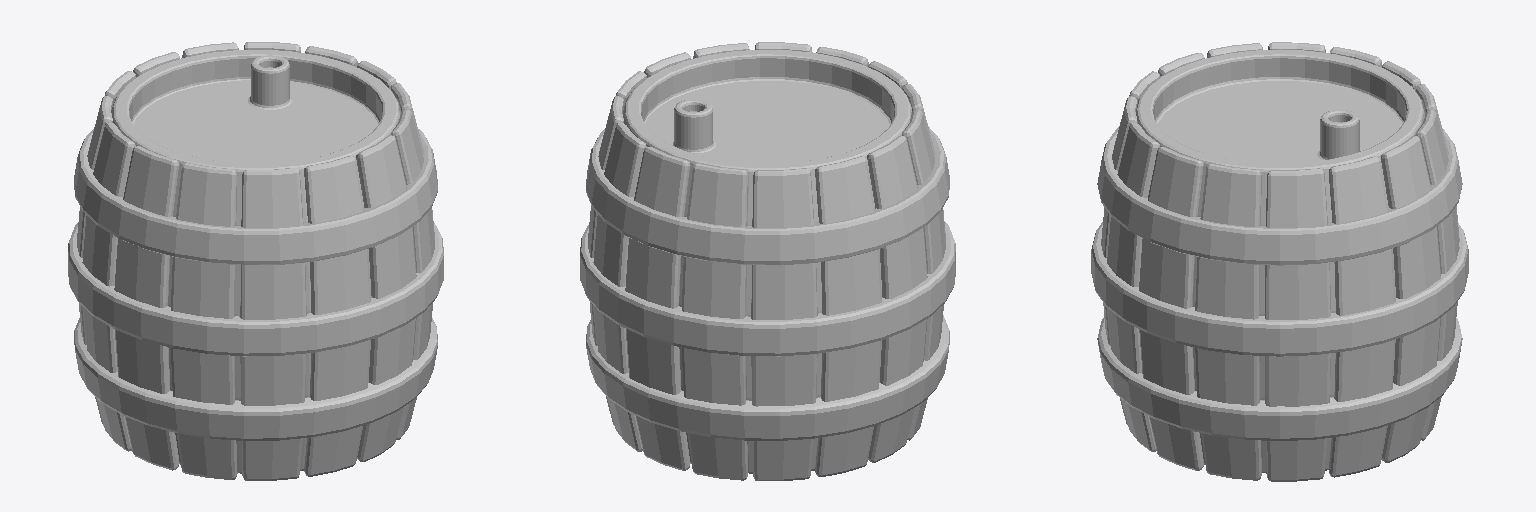
File: sohwajeon.obj
The picture shows the model from 3 angles: view 1: azimuth 30°, elevation 25°; view 2: azimuth 150°, elevation 25°; view 3: azimuth 270°, elevation 25°; orthographic projection.
Parts seen in each view (by area): view 1: Cylinder.001, Cylinder.002, БОЧКА_Cylinder; view 2: Cylinder.001, Cylinder.002, БОЧКА_Cylinder; view 3: Cylinder.001, Cylinder.002, БОЧКА_Cylinder.
Part boxes in pixels (left/top/right/bottom): Cylinder.001: left=77, top=42, right=434, bottom=480; Cylinder.002: left=68, top=129, right=443, bottom=440; БОЧКА_Cylinder: left=111, top=50, right=400, bottom=473; Cylinder.001: left=588, top=42, right=945, bottom=480; Cylinder.002: left=580, top=126, right=955, bottom=440; БОЧКА_Cylinder: left=623, top=50, right=911, bottom=473; Cylinder.001: left=1101, top=42, right=1459, bottom=481; Cylinder.002: left=1091, top=127, right=1468, bottom=440; БОЧКА_Cylinder: left=1136, top=49, right=1424, bottom=473.
Bounding box in the file's own units: 2.28 × 2.14 × 2.28.